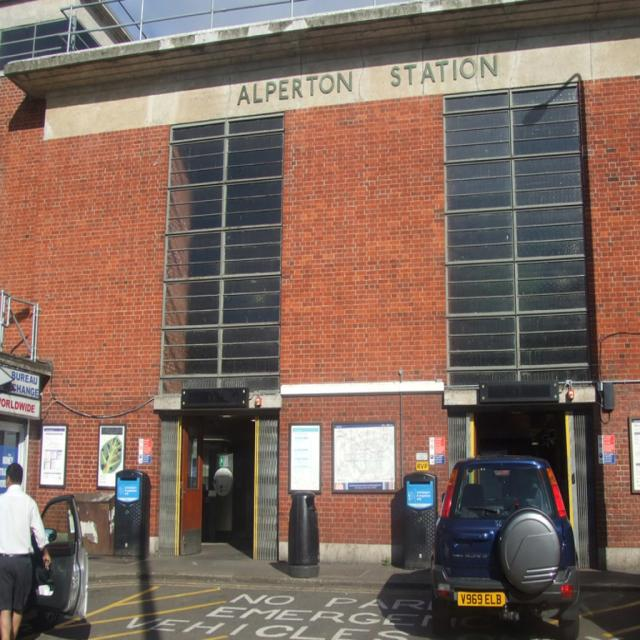car: (433, 448, 580, 621)
